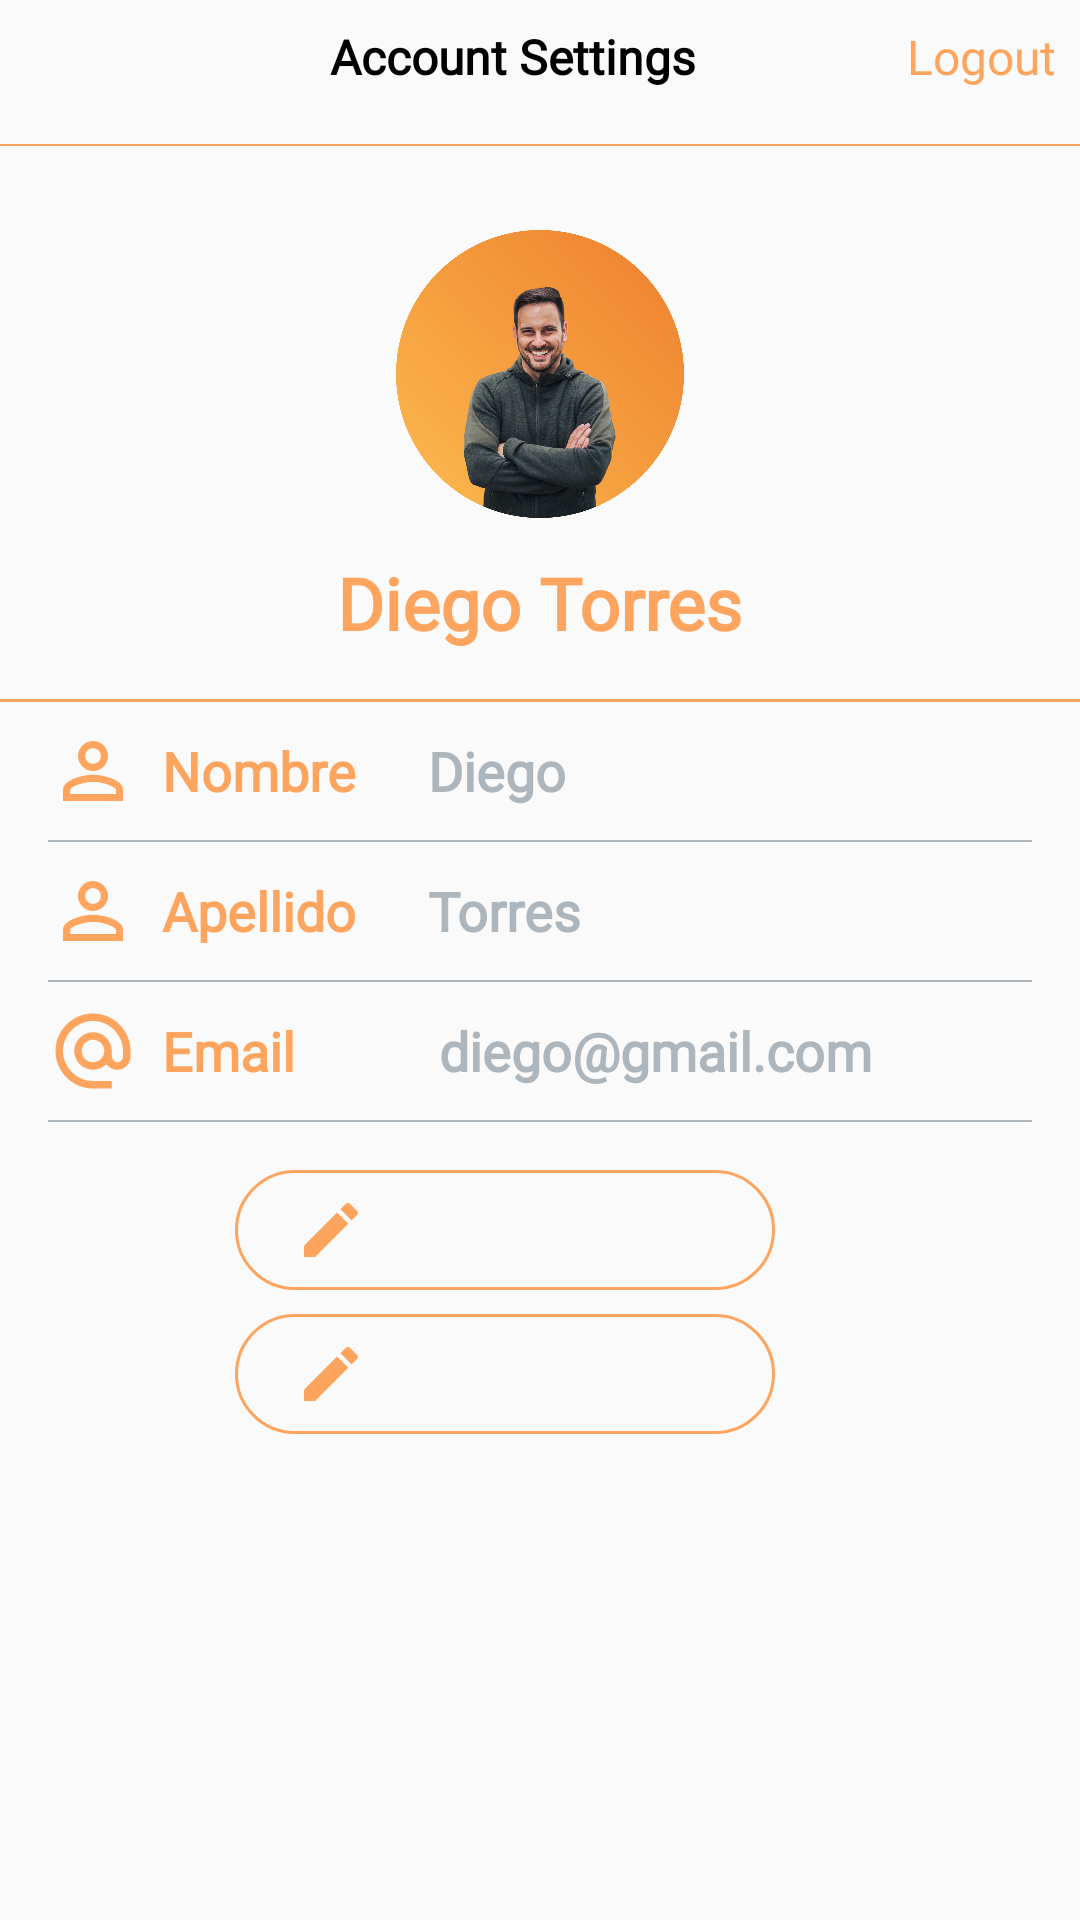

Screen size 1080x1920. Icon name, then its box in pixels as Rect(x1, y1, x2, y2):
profile: Rect(63, 741, 123, 801), Rect(63, 881, 123, 941)
